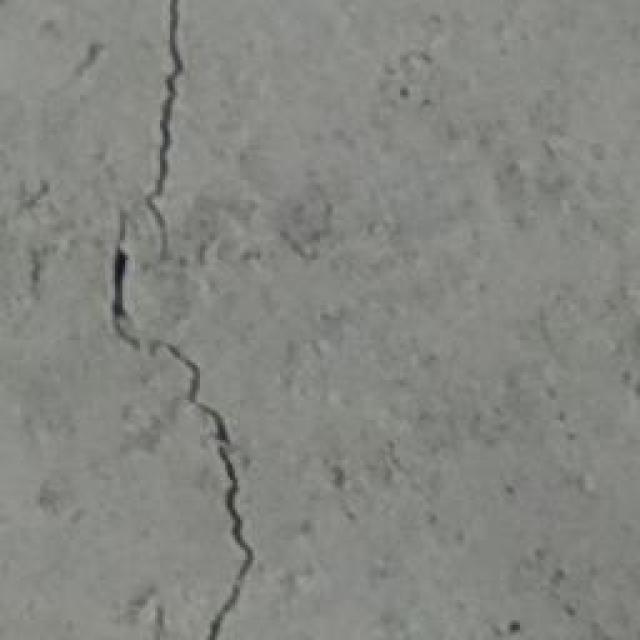Longitudinal: (99, 0, 267, 640)
